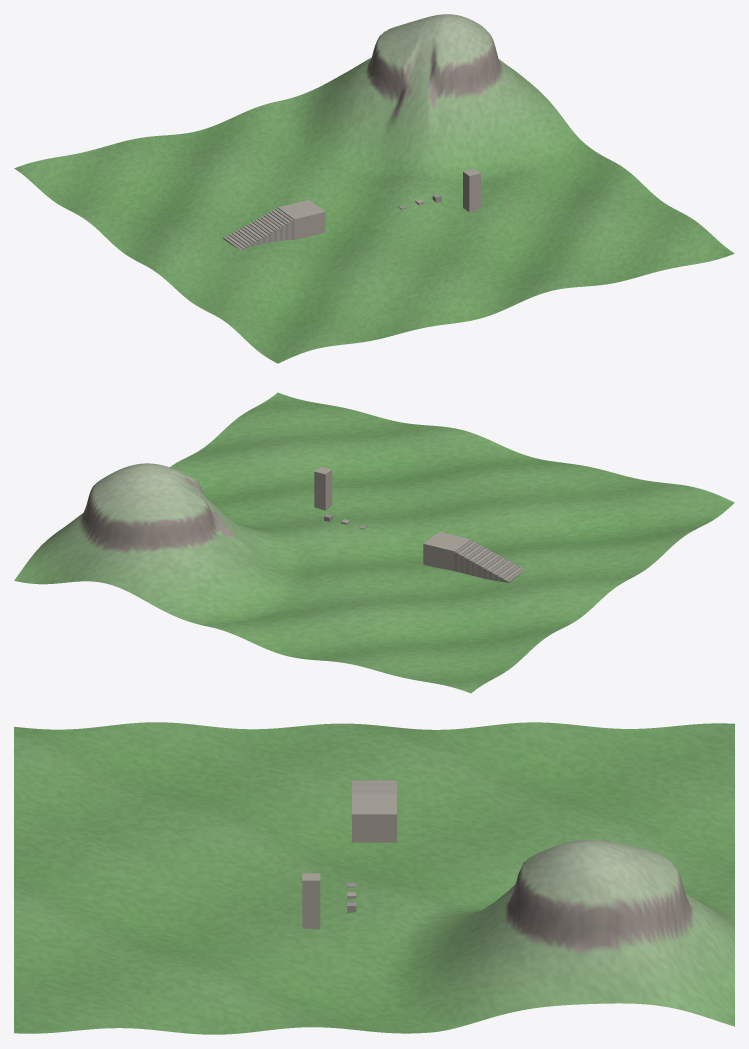
The model's file is hills.glb.
3 renders of one model, top to bottom at view 1: azimuth 30°, elevation 25°; view 2: azimuth 150°, elevation 25°; view 3: azimuth 270°, elevation 25°, orthographic. The views are drawn at different scales.
Parts seen in each view (by area): view 1: hills; view 2: hills; view 3: hills.
Part boxes in pixels (x1=…): hills: x1=14, y1=14, x2=734, y2=363; hills: x1=14, y1=392, x2=734, y2=693; hills: x1=14, y1=722, x2=734, y2=1034.
Size of the model in its own units: 160 by 34.74 by 160.
